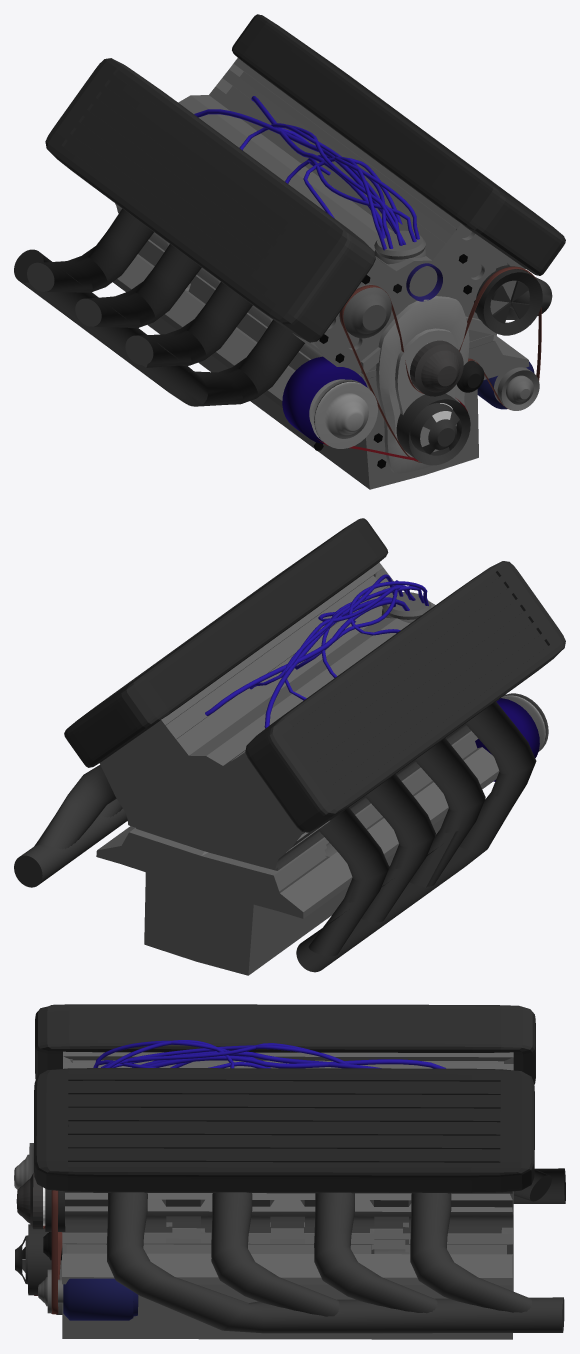
File: motor1.glb
The picture shows the model from 3 angles, top to bottom: view 1: azimuth 30°, elevation 25°; view 2: azimuth 150°, elevation 25°; view 3: azimuth 270°, elevation 25°; orthographic projection. The views are drawn at different scales.
Parts seen in each view (by area): view 1: Cube.003, Cylinder.009, Cylinder.037, Cube.002, Cube, Cylinder.016, Cylinder.002, Cylinder.012, Cylinder, Cylinder.001, Cylinder.003, Cylinder.004 (+4 smaller); view 2: Cylinder.009, Cube.003, Cylinder.037, Cube.002, Cylinder.008, Cylinder.016, Cylinder.001, Cylinder.010, Cylinder.012; view 3: Cube.002, Cylinder.009, Cylinder.008, Cube.003, Cylinder.016, Cylinder.013, Cylinder.002, Cylinder.037, Curve.001, Cylinder.003, Cylinder, Cylinder.006 (+1 smaller).
Boxes of the visible parts, x1,y1,x2,y2 form: Cube.003: (45, 58, 375, 342); Cylinder.009: (113, 58, 529, 489); Cylinder.037: (14, 208, 304, 406); Cube.002: (232, 14, 565, 275); Cube: (376, 296, 469, 473); Cylinder.016: (194, 96, 419, 250); Cylinder.002: (396, 393, 470, 465); Cylinder.012: (309, 379, 377, 448); Cylinder: (474, 265, 542, 335); Cylinder.001: (282, 356, 367, 443); Cylinder.003: (410, 340, 463, 396); Cylinder.004: (339, 284, 391, 338); Cylinder.009: (96, 562, 499, 975); Cube.003: (245, 561, 565, 832); Cylinder.037: (296, 701, 536, 972); Cube.002: (64, 518, 388, 767); Cylinder.008: (14, 765, 127, 887); Cylinder.016: (205, 574, 428, 728); Cylinder.001: (475, 698, 539, 781); Cylinder.010: (381, 592, 431, 623); Cylinder.012: (501, 693, 548, 751); Cube.002: (34, 1068, 534, 1192); Cylinder.009: (62, 1051, 513, 1339); Cylinder.008: (106, 1192, 564, 1333); Cube.003: (35, 1004, 535, 1084); Cylinder.016: (93, 1040, 445, 1068); Cylinder.013: (63, 1278, 138, 1320); Cylinder.002: (15, 1224, 51, 1295); Cylinder.037: (513, 1168, 565, 1203); Curve.001: (43, 1190, 62, 1314); Cylinder.003: (16, 1173, 43, 1229); Cylinder: (45, 1189, 65, 1231); Cylinder.006: (38, 1269, 63, 1313).
Bounding box in the file's own units: 5.68 × 4.6 × 8.23.
